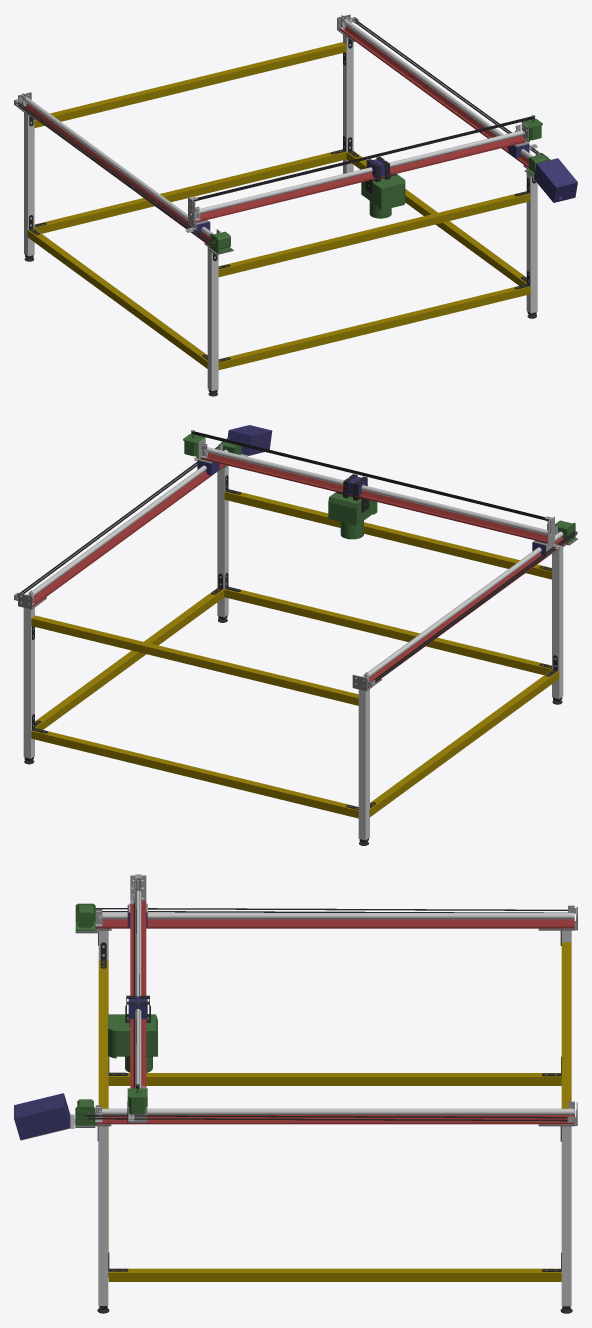
The picture shows the model from 3 angles, top to bottom: view 1: azimuth 30°, elevation 25°; view 2: azimuth 150°, elevation 25°; view 3: azimuth 270°, elevation 25°; orthographic projection. The views are drawn at different scales.
Visible parts, largest first — view 1: Body1.045, Body1.046, Body1.058, Body1.057, Body1.065, Body1.052, Body1.066, Body1.051, Body1.036, Body1.024, Body1.034, Body1.030 (+10 smaller); view 2: Body1.058, Body1.057, Body1.045, Body1.046, Body1.065, Body1.052, Body1.051, Body1.066, Body1.024, Body1.030, Body1.036, Body1.027 (+9 smaller); view 3: Body1.051, Body1.052, Body1.022, Body1.024, Body1.025, Body1.023, Body1.027, Body1.034, Body1.063, Body1.058, Body1.065, Body1.088 (+5 smaller).
Part boxes in pixels (bbox=[...]): Body1.045: bbox=[218, 286, 530, 369]; Body1.046: bbox=[218, 193, 530, 277]; Body1.058: bbox=[34, 42, 346, 128]; Body1.057: bbox=[34, 151, 346, 233]; Body1.065: bbox=[195, 135, 525, 222]; Body1.052: bbox=[27, 228, 207, 368]; Body1.066: bbox=[198, 130, 523, 213]; Body1.051: bbox=[346, 150, 526, 285]; Body1.036: bbox=[207, 247, 218, 391]; Body1.024: bbox=[339, 25, 528, 168]; Body1.034: bbox=[526, 169, 537, 313]; Body1.030: bbox=[24, 112, 34, 256]; Body1.058: bbox=[31, 615, 358, 705]; Body1.057: bbox=[31, 730, 358, 818]; Body1.045: bbox=[224, 588, 551, 674]; Body1.046: bbox=[224, 491, 551, 579]; Body1.065: bbox=[200, 453, 547, 543]; Body1.052: bbox=[369, 669, 559, 816]; Body1.051: bbox=[35, 588, 224, 729]; Body1.066: bbox=[205, 447, 551, 535]; Body1.024: bbox=[21, 463, 225, 606]; Body1.030: bbox=[358, 689, 369, 840]; Body1.036: bbox=[552, 547, 563, 698]; Body1.027: bbox=[23, 608, 34, 758]; Body1.051: bbox=[108, 1268, 561, 1281]; Body1.052: bbox=[108, 1073, 561, 1085]; Body1.022: bbox=[95, 919, 574, 928]; Body1.024: bbox=[95, 1115, 574, 1124]; Body1.025: bbox=[95, 1108, 574, 1114]; Body1.023: bbox=[100, 913, 574, 919]; Body1.027: bbox=[561, 1126, 571, 1306]; Body1.034: bbox=[98, 1126, 108, 1305]; Body1.063: bbox=[84, 1115, 567, 1121]; Body1.058: bbox=[561, 942, 571, 1108]; Body1.065: bbox=[130, 899, 146, 1088]; Body1.088: bbox=[108, 1014, 157, 1072].
Size of the model in its own units: 1.29 by 0.652 by 1.41.
